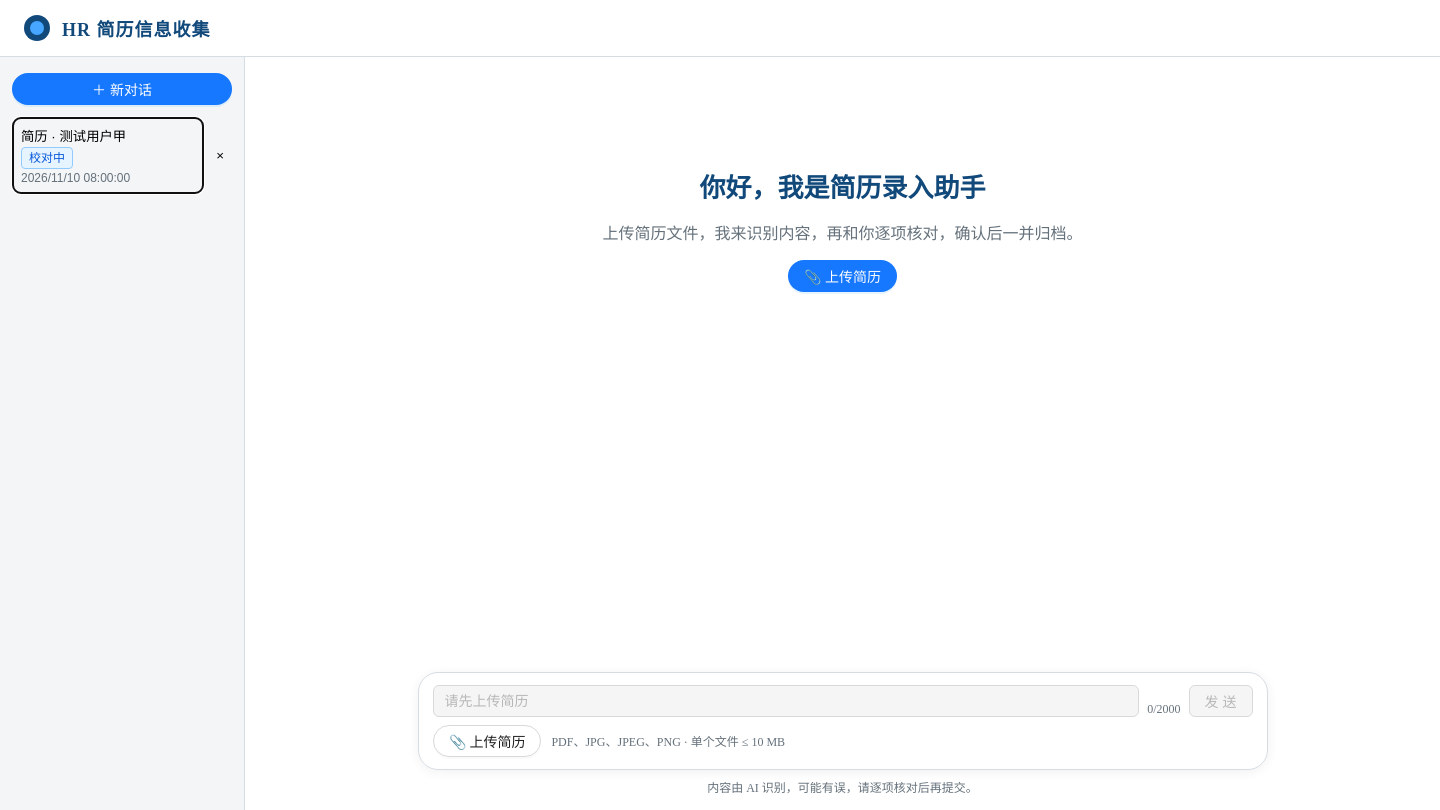
announcements (TD-13) › "思考中" is announced politely and a chat error as exactly one alert
Later steps or results of the test are not shown.
Press Enter
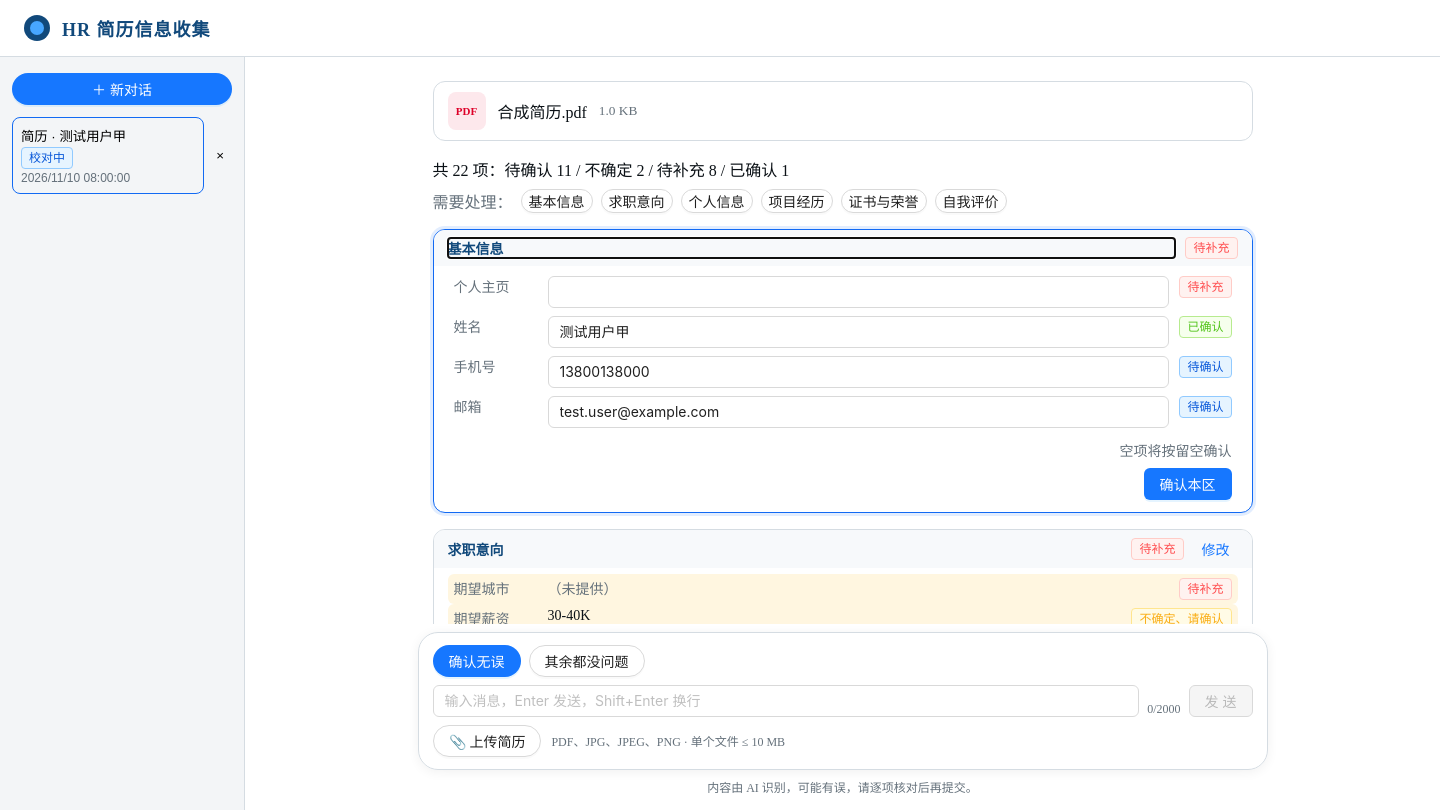
Now the heading "基本信息" is shown, box [448, 242, 504, 257]
Type "你好" into the text box named "对话输入". click: coordinates (786, 701)
box: [432, 685, 1139, 717]
Then press Enter
(page scrolled)
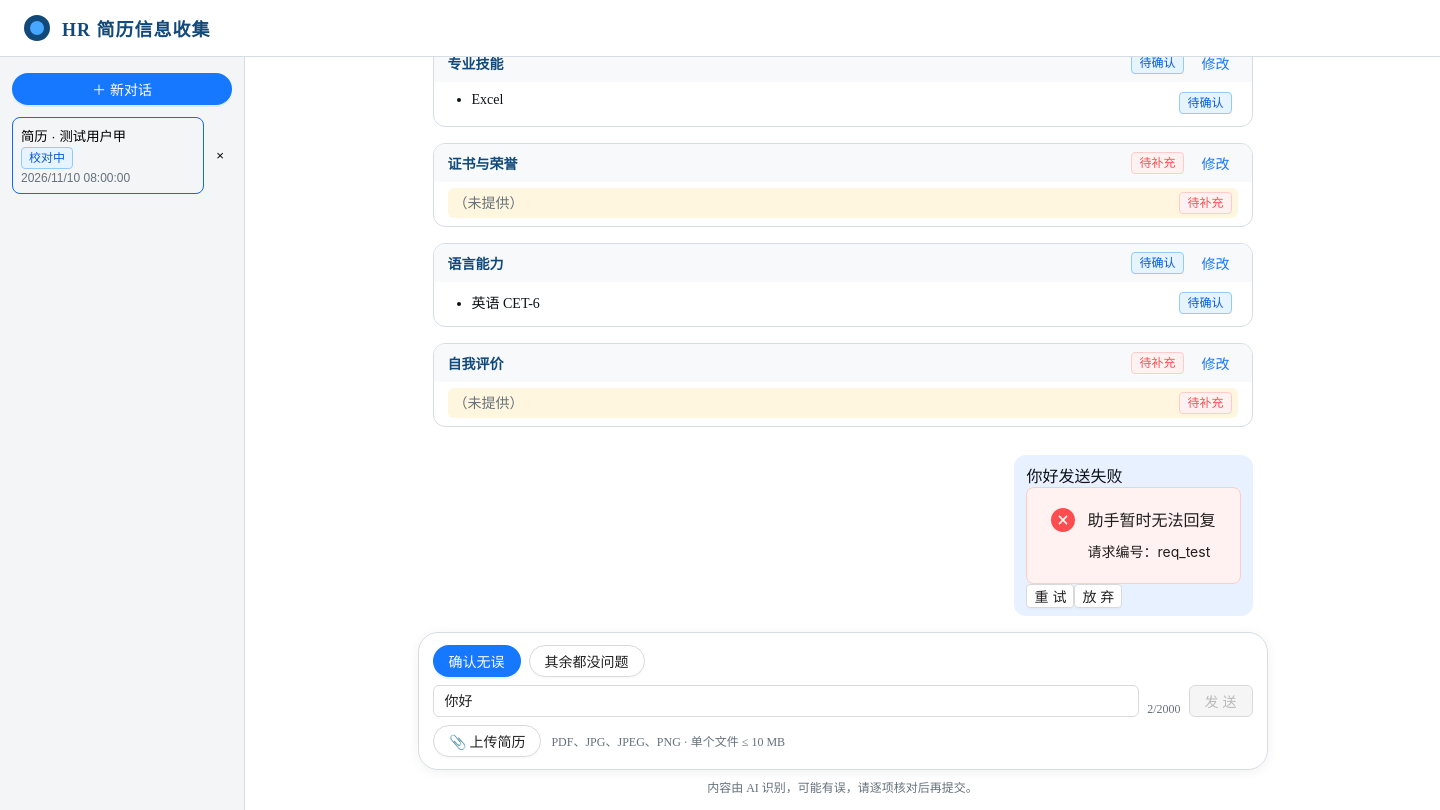
Now the text "助手暂时无法回复" is shown, box [1088, 508, 1216, 533]
Now the number of messages is 1, box [1026, 487, 1240, 584]
